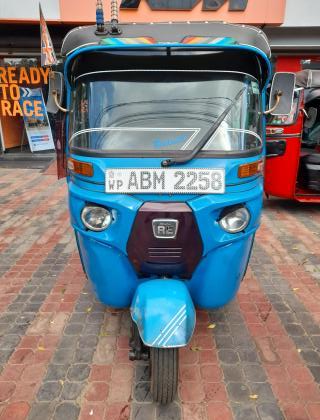threewheel: (45, 23, 295, 407), (263, 67, 320, 204)
